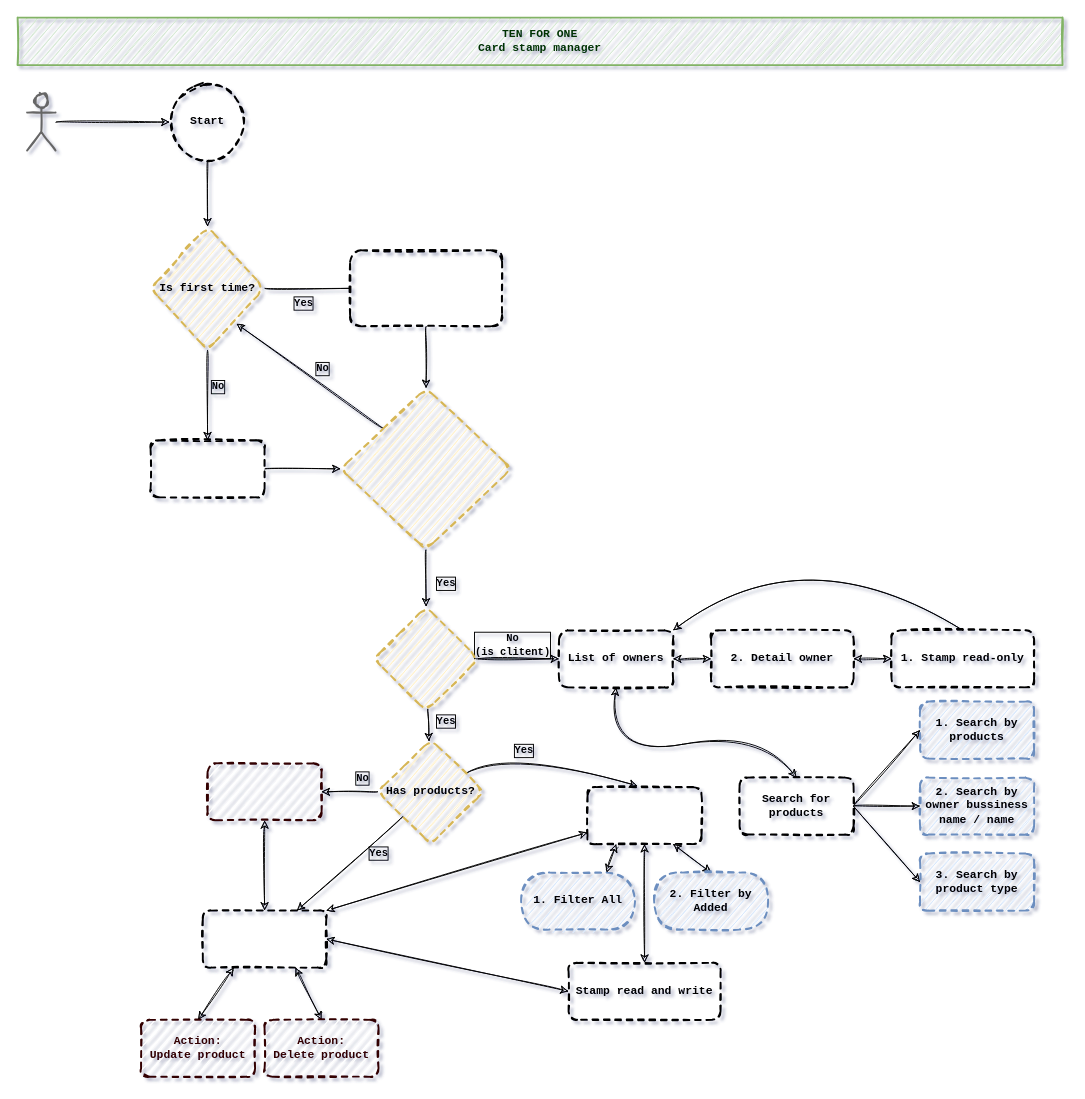
The diagram is 1085 pixels wide and 1099 high, and some of its shapes have lost their labels. The centre of each missing label's shape, as x and y in pixels:
Action: Create product: pixel 264 791
Is authenticated and aututhorized?: pixel 425 468
Is owner ?: pixel 425 658
List of Clients: pixel 644 815
List of Products: pixel 264 938
Sign in: pixel 207 468
Sign up: pixel 426 288
User: pixel 41 121
